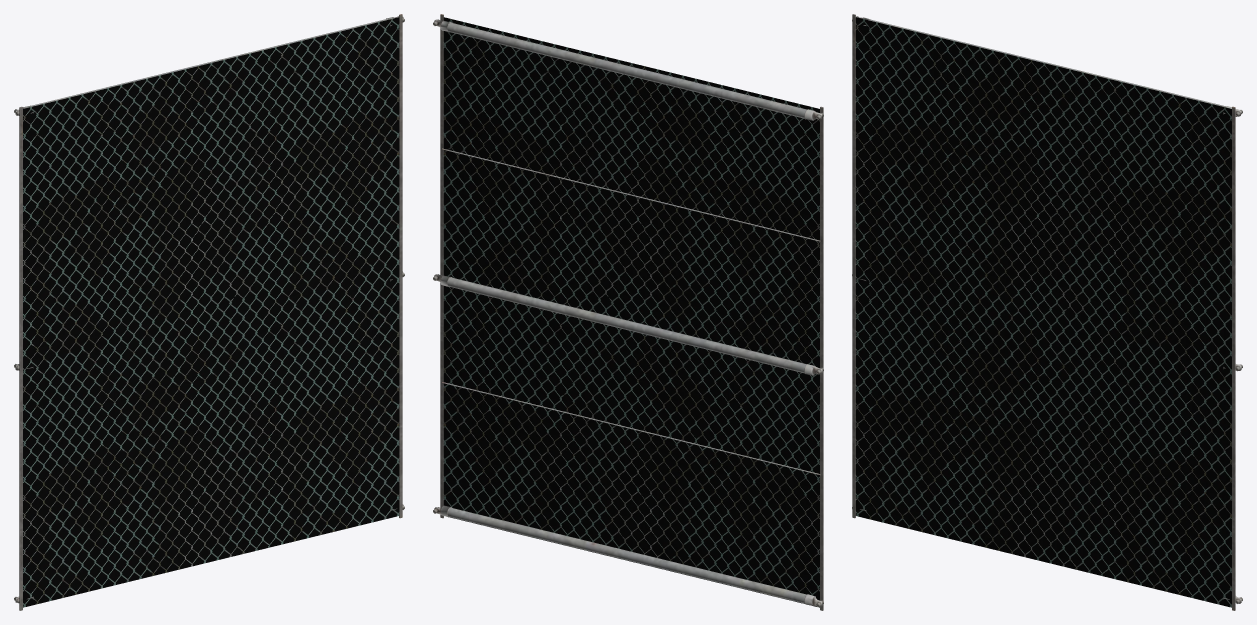
File: modular_chainlink_fence.glb
3 views of the same model, side by side, from view 1: azimuth 30°, elevation 25°; view 2: azimuth 150°, elevation 25°; view 3: azimuth 330°, elevation 25° (orthographic).
Visible parts, largest first — view 1: modular_chainlink_fence_double; view 2: modular_chainlink_fence_double; view 3: modular_chainlink_fence_double.
Boxes of the visible parts, box(x1,y1,x2,y2) form: modular_chainlink_fence_double: box(14, 14, 404, 610); modular_chainlink_fence_double: box(433, 14, 823, 610); modular_chainlink_fence_double: box(852, 14, 1242, 610).
Bounding box in the file's own units: 1.91 × 2.37 × 0.0482.
Materials: 2 (2 with a texture image).
